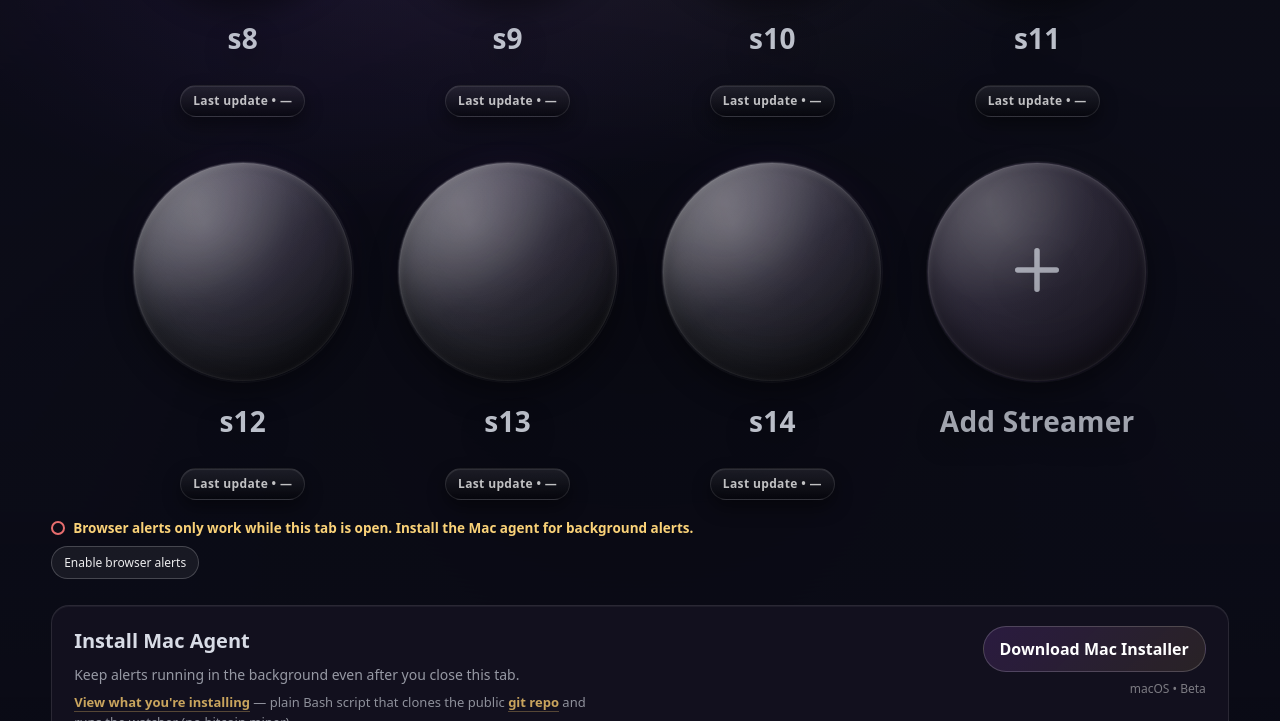
Test: App › blocks Add Streamer when max streamers reached
The width and height of the screenshot is (1280, 721).
(page scrolled)
Click the button with class "add": (1037, 272) [927,162,1147,382]
(page scrolled)
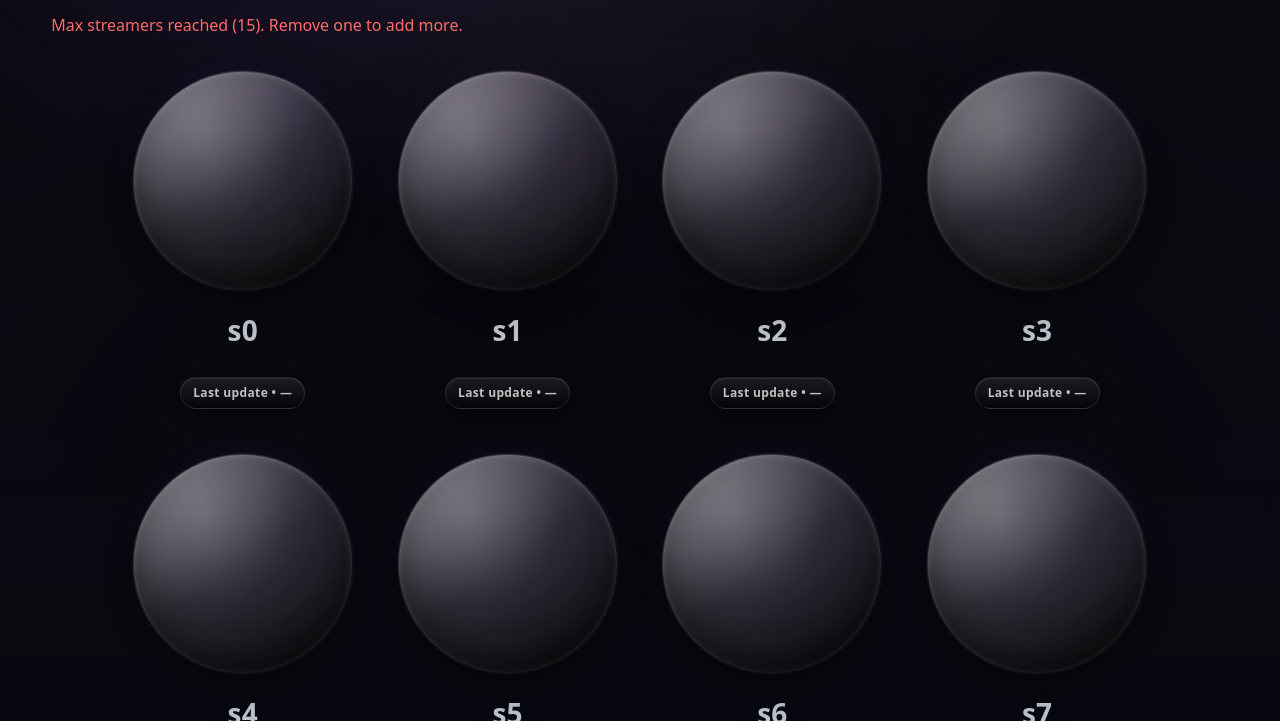
Result: the text "Max streamers reached (15). Remove one to add more." is shown at [51,14,463,36]
